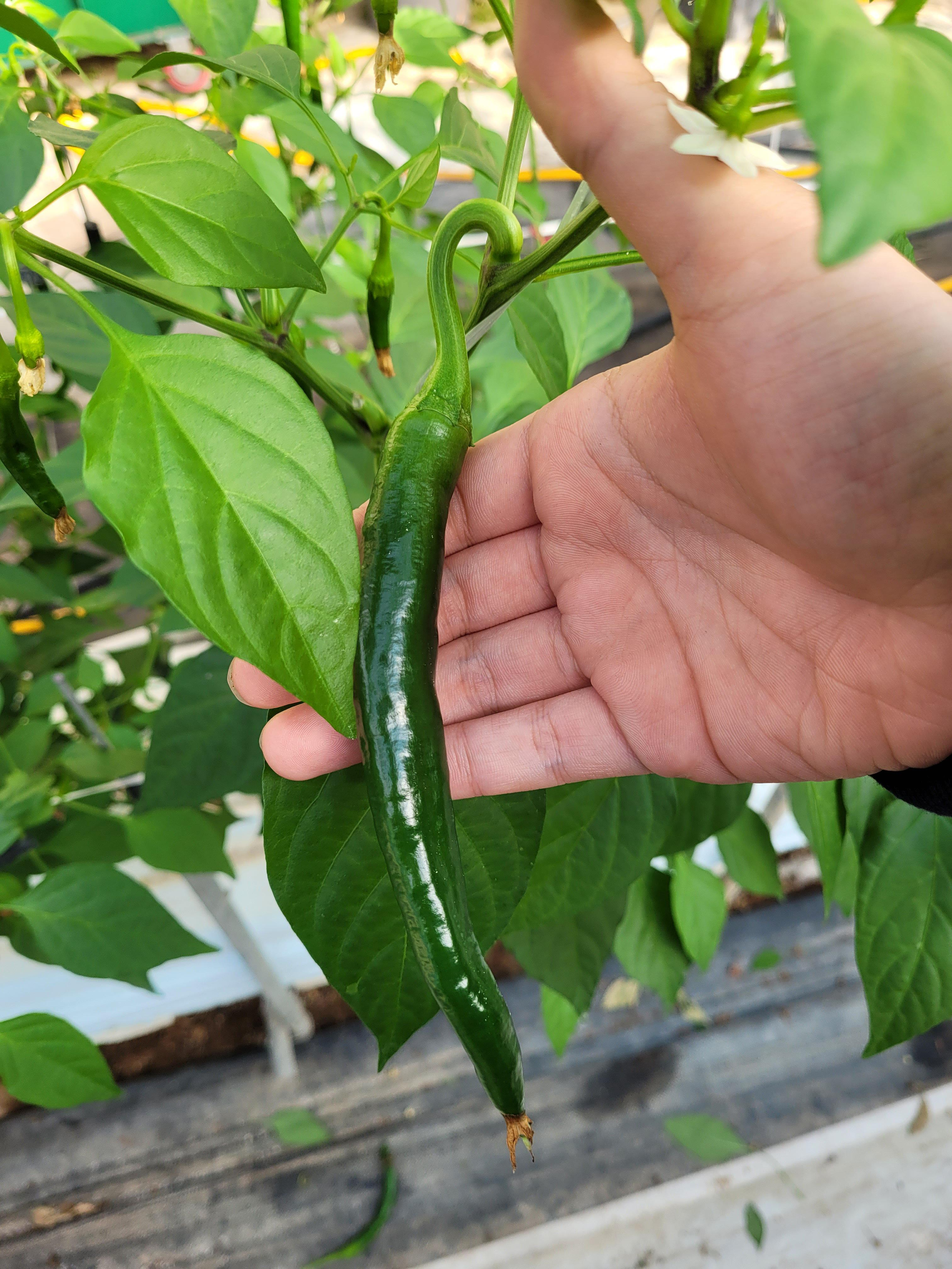Buah Cabai Sehat: (356, 354, 545, 1156)
Daun Cabai Sehat: (82, 322, 366, 755), (82, 118, 339, 302)
